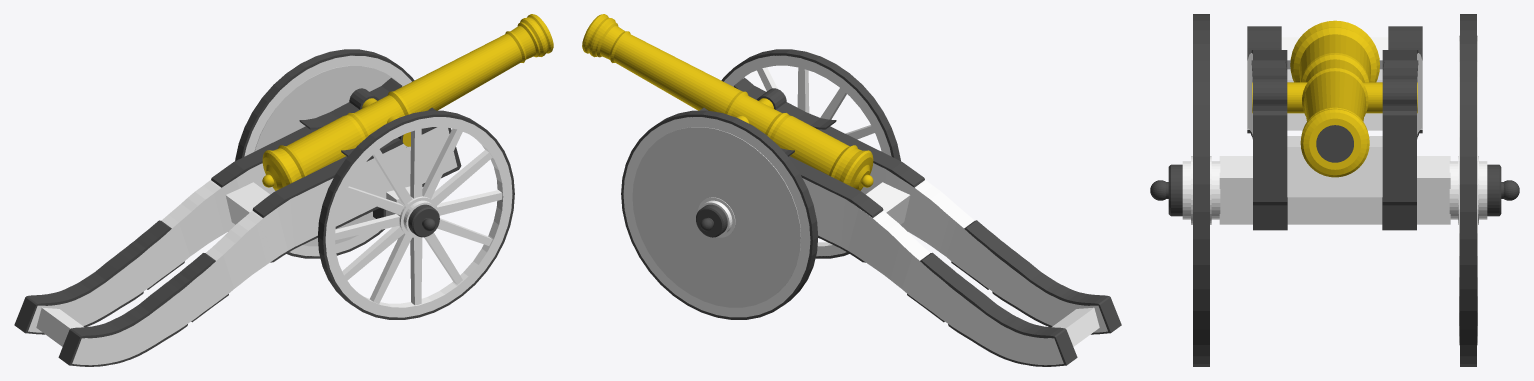
The model's file is cannon.gltf.
3 renders of one model, left to right at view 1: azimuth 30°, elevation 25°; view 2: azimuth 150°, elevation 25°; view 3: azimuth 270°, elevation 25°, orthographic. The views are drawn at different scales.
Visible parts, largest first — view 1: Cube.005, Cylinder.007, Cube.008, Cube.002, Cylinder.010, Cube.006, Cylinder.001, Cube.003, Cylinder.015, Cylinder, Cylinder.006, Cube.004 (+3 smaller); view 2: Cylinder.001, Cylinder.007, Cube.002, Cube.005, Cylinder, Cube.003, Cube.006, Cylinder.006, Cylinder.010, Cylinder.015, Cube.008, Cube.007 (+3 smaller); view 3: Cylinder.007, Cube.001, Cylinder.006, Cylinder.015, Cube.003, Cube.006, Cube.009, Cube.004, Cube.007, Cylinder.009, Cylinder.008, Cylinder.003 (+10 smaller).
Part boxes in pixels (x1,y1,x2,y2): Cube.005: (72, 127, 457, 365); Cylinder.007: (262, 14, 553, 190); Cube.008: (335, 128, 502, 305); Cube.002: (28, 163, 275, 332); Cylinder.010: (325, 117, 512, 317); Cube.006: (58, 127, 461, 366); Cylinder.001: (254, 65, 398, 246); Cube.003: (14, 126, 317, 334); Cylinder.015: (317, 110, 514, 319); Cylinder: (244, 55, 411, 256); Cylinder.006: (235, 49, 414, 258); Cube.004: (299, 78, 401, 129); Cylinder.001: (632, 127, 800, 307); Cylinder.007: (582, 14, 873, 190); Cube.002: (802, 178, 1063, 365); Cube.005: (861, 163, 1107, 332); Cylinder: (623, 117, 810, 317); Cube.003: (788, 156, 1077, 366); Cube.006: (817, 126, 1121, 334); Cylinder.006: (621, 110, 818, 319); Cylinder.010: (724, 55, 891, 256); Cylinder.015: (721, 49, 900, 258); Cube.008: (757, 67, 874, 139); Cube.007: (734, 77, 836, 129); Cylinder.007: (1290, 20, 1379, 177); Cube.001: (1219, 156, 1450, 224); Cylinder.006: (1460, 14, 1476, 366); Cylinder.015: (1193, 14, 1209, 366); Cube.003: (1382, 26, 1422, 205); Cube.006: (1247, 26, 1287, 205); Cube.009: (1287, 136, 1382, 197); Cube.004: (1382, 60, 1418, 105); Cube.007: (1251, 60, 1287, 105); Cylinder.009: (1316, 125, 1353, 162); Cylinder.008: (1252, 82, 1417, 113); Cylinder.003: (1449, 161, 1487, 219).
Size of the model in its own units: 5.41 by 2.35 by 2.15.
